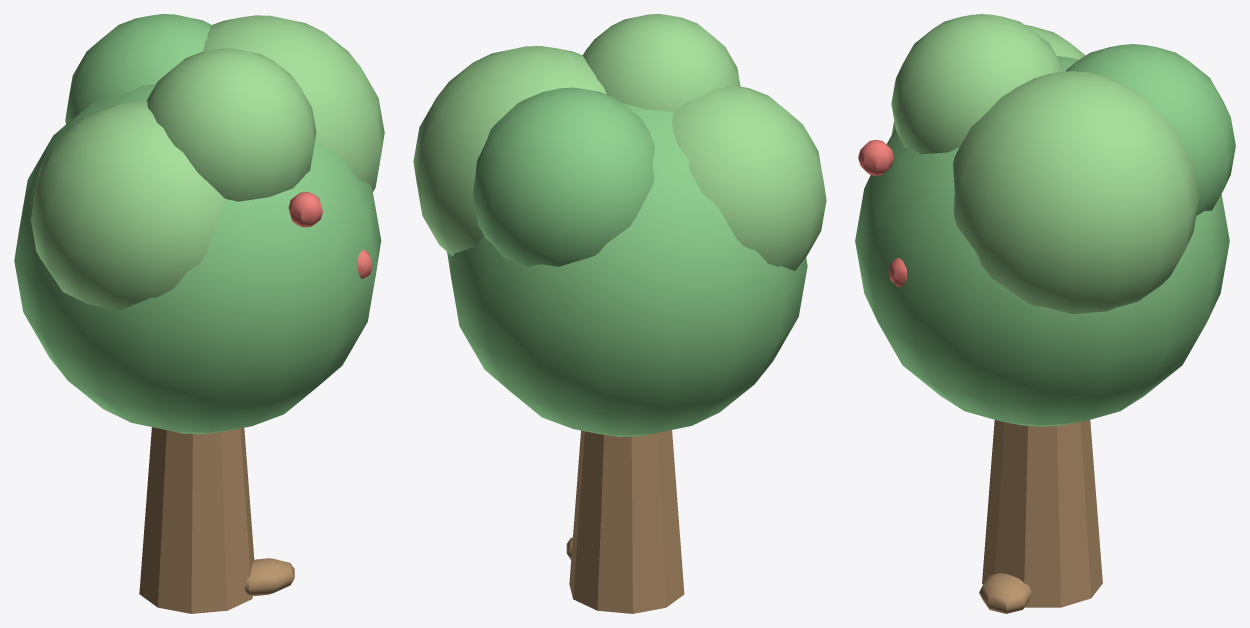
Rendered from decor_tree.glb.
The picture shows the model from 3 angles, left to right: view 1: azimuth 30°, elevation 25°; view 2: azimuth 150°, elevation 25°; view 3: azimuth 270°, elevation 25°; orthographic projection. The views are drawn at different scales.
Visible parts, largest first — view 1: Canopy, Canopy.002, Trunk, Canopy.004, Canopy.001, Canopy.003, Root, Apple.002; view 2: Canopy, Canopy.003, Canopy.002, Trunk, Canopy.001, Canopy.004; view 3: Canopy, Canopy.001, Trunk, Canopy.004, Canopy.003, Root, Apple.002, Canopy.002.
Boxes of the visible parts, x1,y1,x2,y2 form: Canopy: (14, 84, 381, 434); Canopy.002: (31, 101, 225, 310); Trunk: (139, 427, 254, 613); Canopy.004: (146, 48, 316, 201); Canopy.001: (202, 15, 384, 191); Canopy.003: (65, 14, 212, 124); Root: (244, 558, 294, 595); Apple.002: (288, 192, 322, 227); Canopy: (447, 103, 807, 436); Canopy.003: (472, 87, 654, 266); Canopy.002: (672, 84, 826, 270); Trunk: (569, 430, 684, 613); Canopy.001: (413, 46, 606, 255); Canopy.004: (582, 14, 740, 111); Canopy: (855, 56, 1229, 426); Canopy.001: (953, 71, 1199, 313); Trunk: (982, 420, 1102, 607); Canopy.004: (891, 14, 1064, 154); Canopy.003: (1066, 44, 1235, 215); Root: (979, 573, 1032, 613); Apple.002: (858, 140, 894, 175); Canopy.002: (891, 25, 1085, 134).
Bounding box in the file's own units: 1.38 × 2.05 × 1.26.
